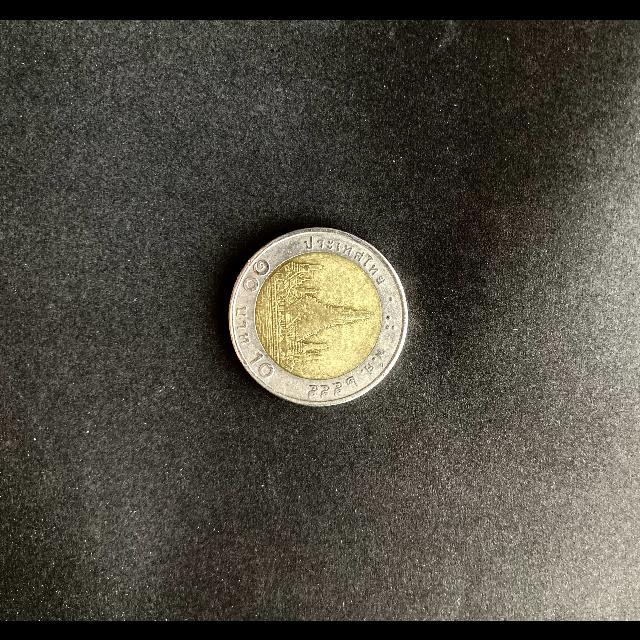10 Bath: (227, 222, 413, 410)
